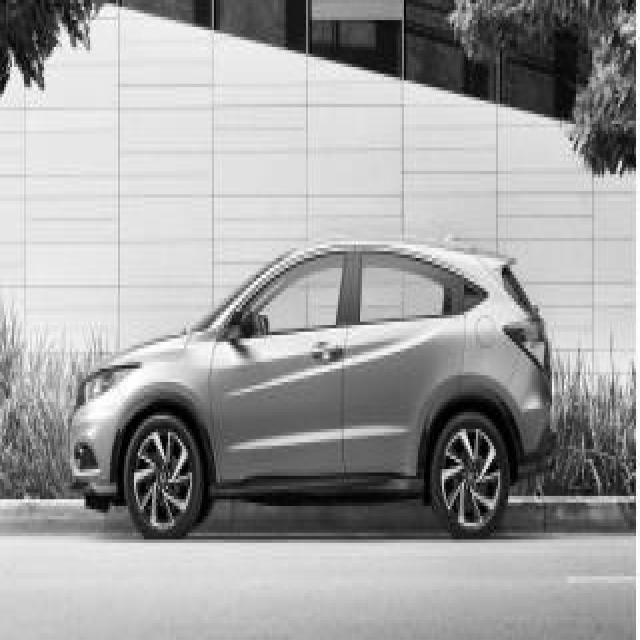Car: (71, 241, 549, 537)
